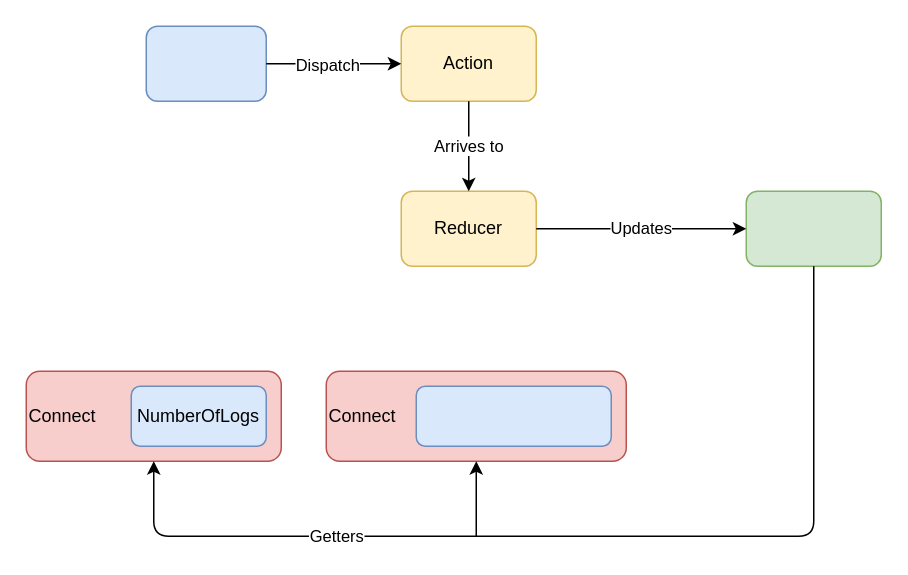
This 908x575 diagram has some shape labels left out. Each missing label, with the centre of its shape:
"App" belongs at point 205,63.
"NumberOfLogsAndData" belongs at point 513,415.
"Store" belongs at point 813,228.
